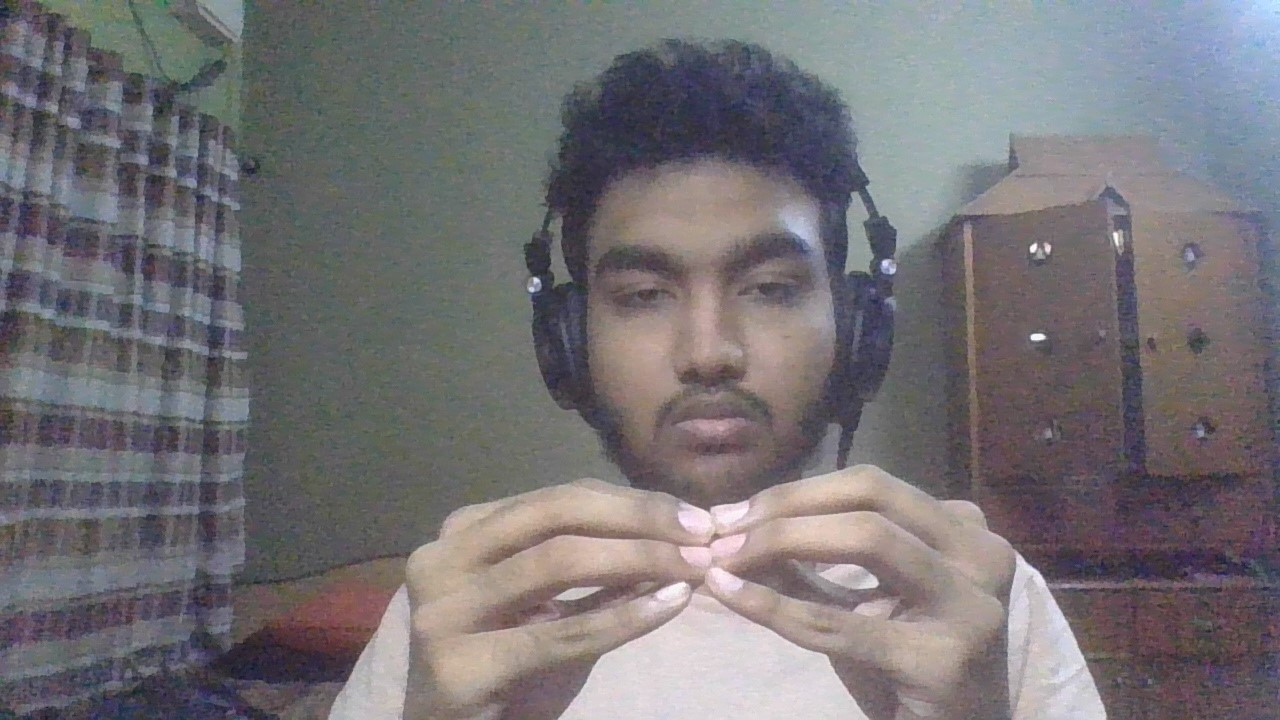More: (395, 459, 1033, 720)
